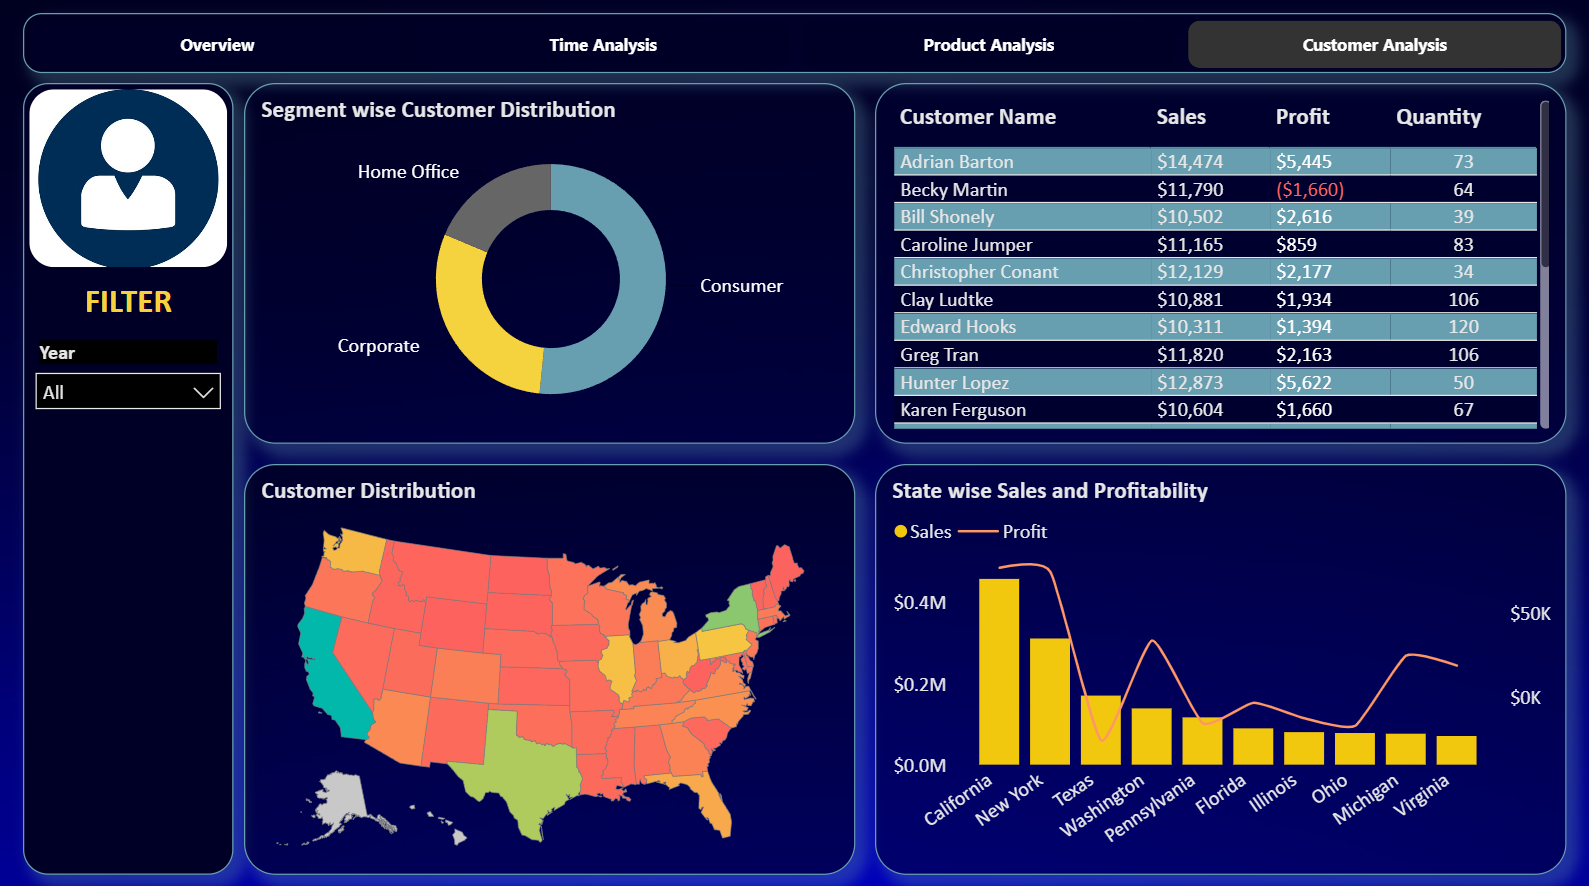

This screenshot's page, from the dashboard's own definition file:
{"tool":"powerbi","page":{"name":"Customer Analysis","canvas":[1280,720],"ordinal":3},"visuals":[{"type":"donutChart","title":"Segment wise Customer Distribution","fields":{"Category":["dim_customer.segment"],"Y":["Count(dim_customer.customer_id)"]},"box":[80,96,448,280],"z":0},{"type":"lineClusteredColumnComboChart","title":"State wise Sales and Profitability","fields":{"Category":["fact_sales.state"],"Y":["Sum(fact_sales.sales)"],"Y2":["Sum(fact_sales.profit)"]},"box":[80,392,1144,248],"z":1000},{"type":"tableEx","fields":{"Values":["dim_customer.customer_name","Sum(fact_sales.sales)","Sum(fact_sales.profit)","Sum(fact_sales.quantity)"]},"box":[712,96,384,280],"z":2000},{"type":"slicer","fields":{"Values":["dim_date.Year"]},"box":[1112,104,112,120],"z":3000},{"type":"textbox","box":[80,16,1144,72],"z":4000},{"type":"pageNavigator","box":[80,672,1144,48],"z":4001}]}

Visuals, with their boxes in screenshot pixels (x1, y1, x2, y2), scaled from the page's 1280x720 canvas onto the 1589x886 screenshot:
"Segment wise Customer Distribution" donutChart: rect(99, 118, 655, 463)
"State wise Sales and Profitability" lineClusteredColumnComboChart: rect(99, 482, 1519, 788)
tableEx - dim_customer.customer_name x Sum(fact_sales.sales): rect(884, 118, 1361, 463)
slicer - dim_date.Year: rect(1380, 128, 1519, 276)
textbox: rect(99, 20, 1519, 108)
pageNavigator: rect(99, 827, 1519, 885)
